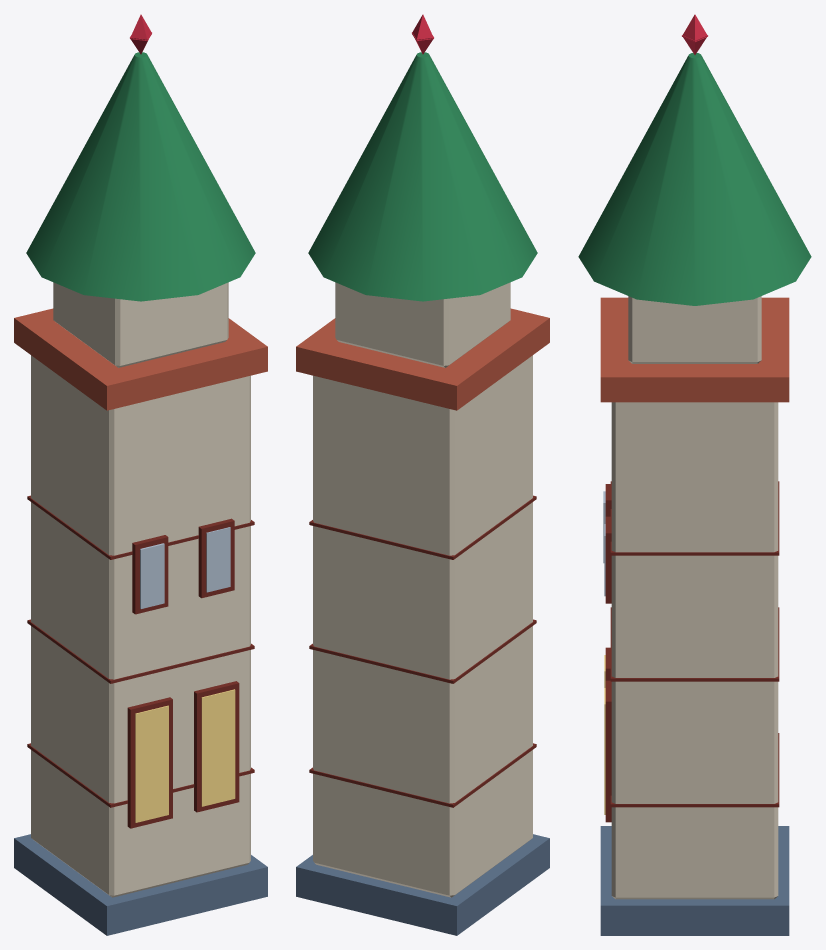
Rendered from bld_gum_turret.glb.
3 views of the same model, side by side, from view 1: azimuth 30°, elevation 25°; view 2: azimuth 150°, elevation 25°; view 3: azimuth 270°, elevation 25° (orthographic).
Visible parts, largest first — view 1: bld_gum_turret; view 2: bld_gum_turret; view 3: bld_gum_turret.
Boxes of the visible parts, <box> form: bld_gum_turret: <box>14,14,267,935</box>; bld_gum_turret: <box>296,14,549,935</box>; bld_gum_turret: <box>578,14,811,935</box>.
Bounding box in the file's own units: 4.2 × 17.52 × 4.2.
Materials: 1 (1 with a texture image).
